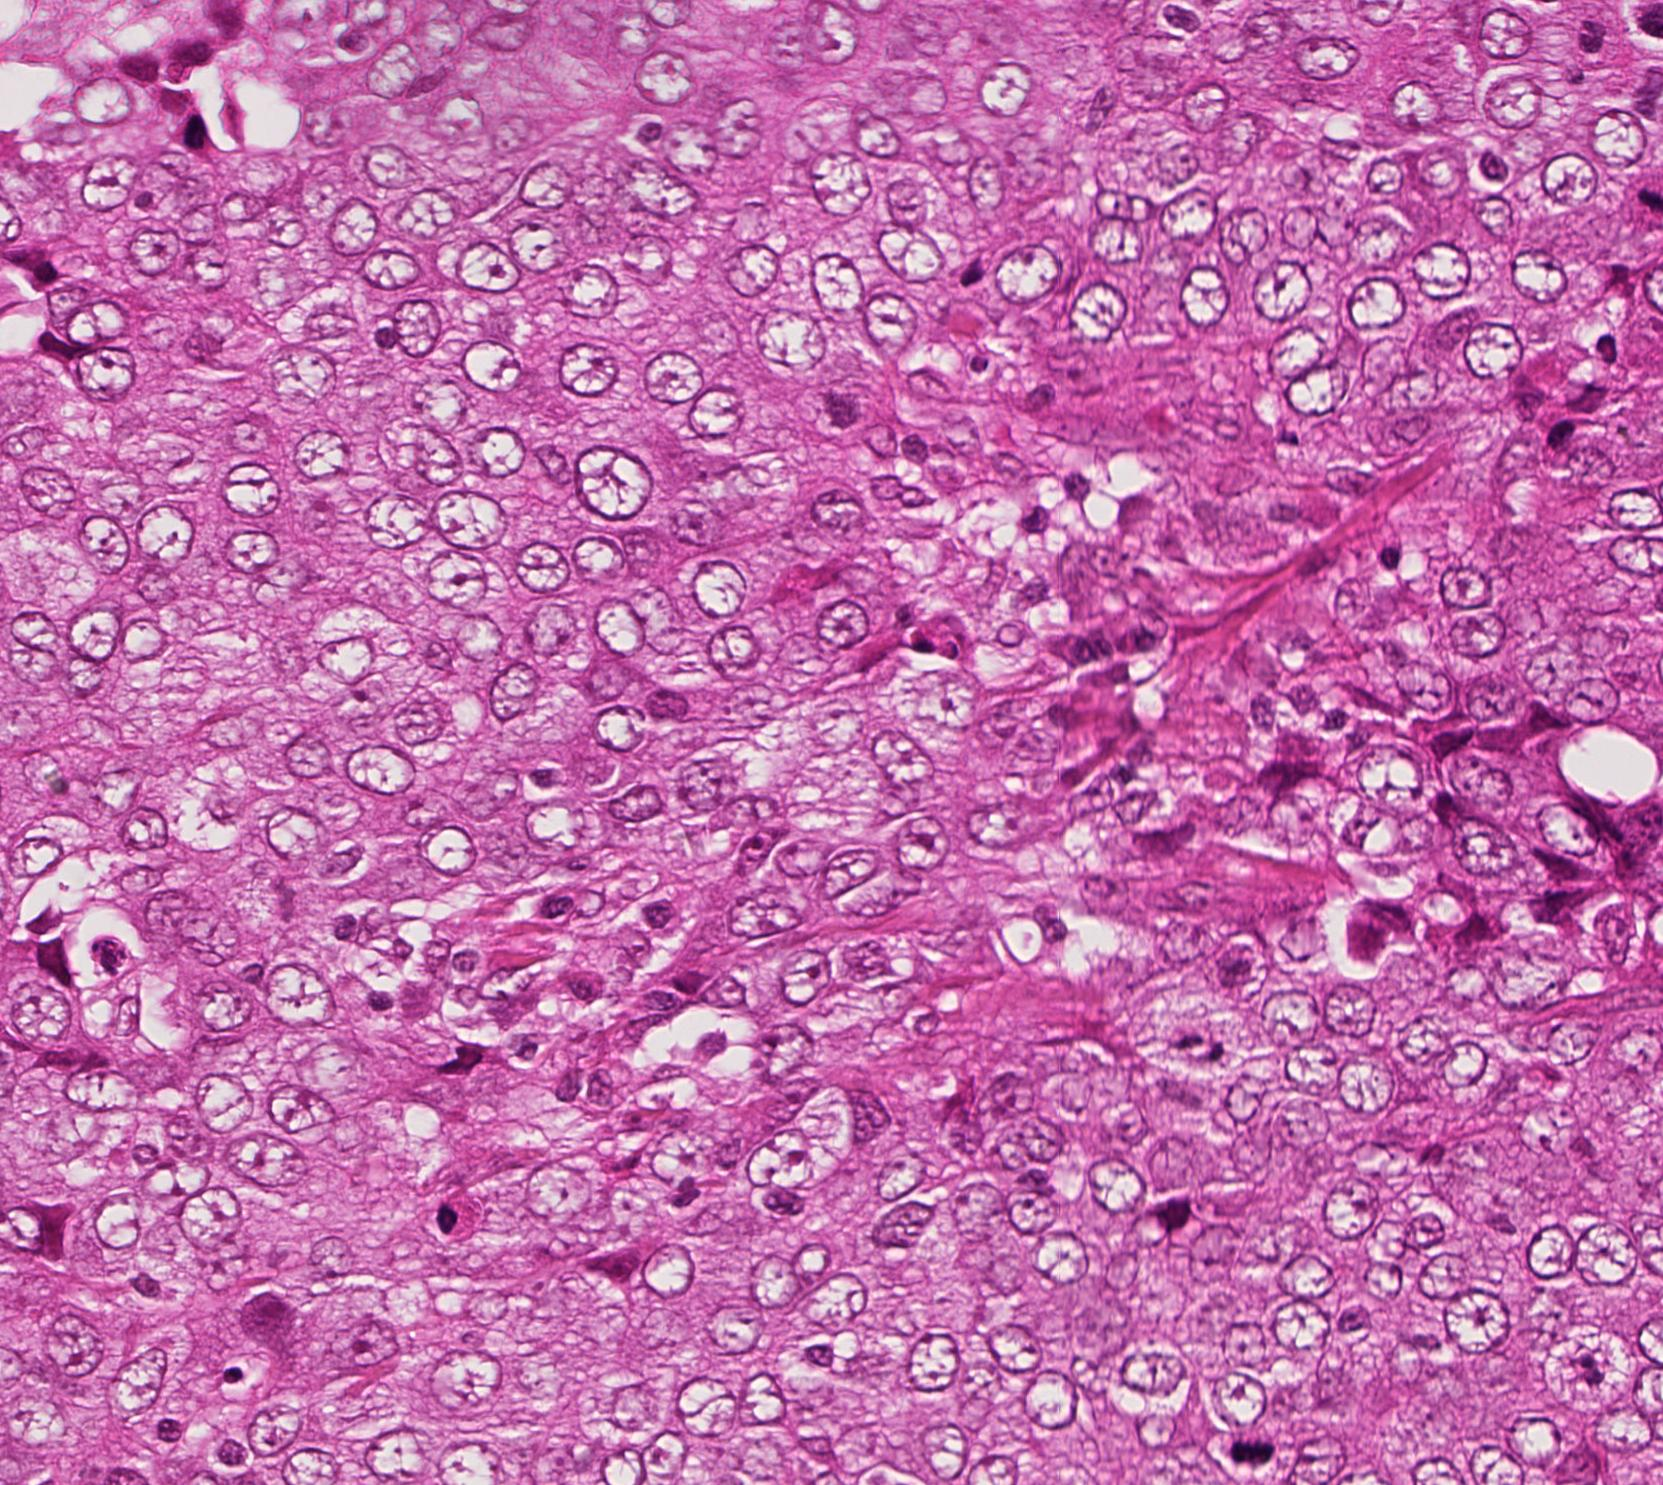mitosis: (1220, 1413, 1280, 1474), (801, 381, 862, 441), (1616, 168, 1663, 228)
